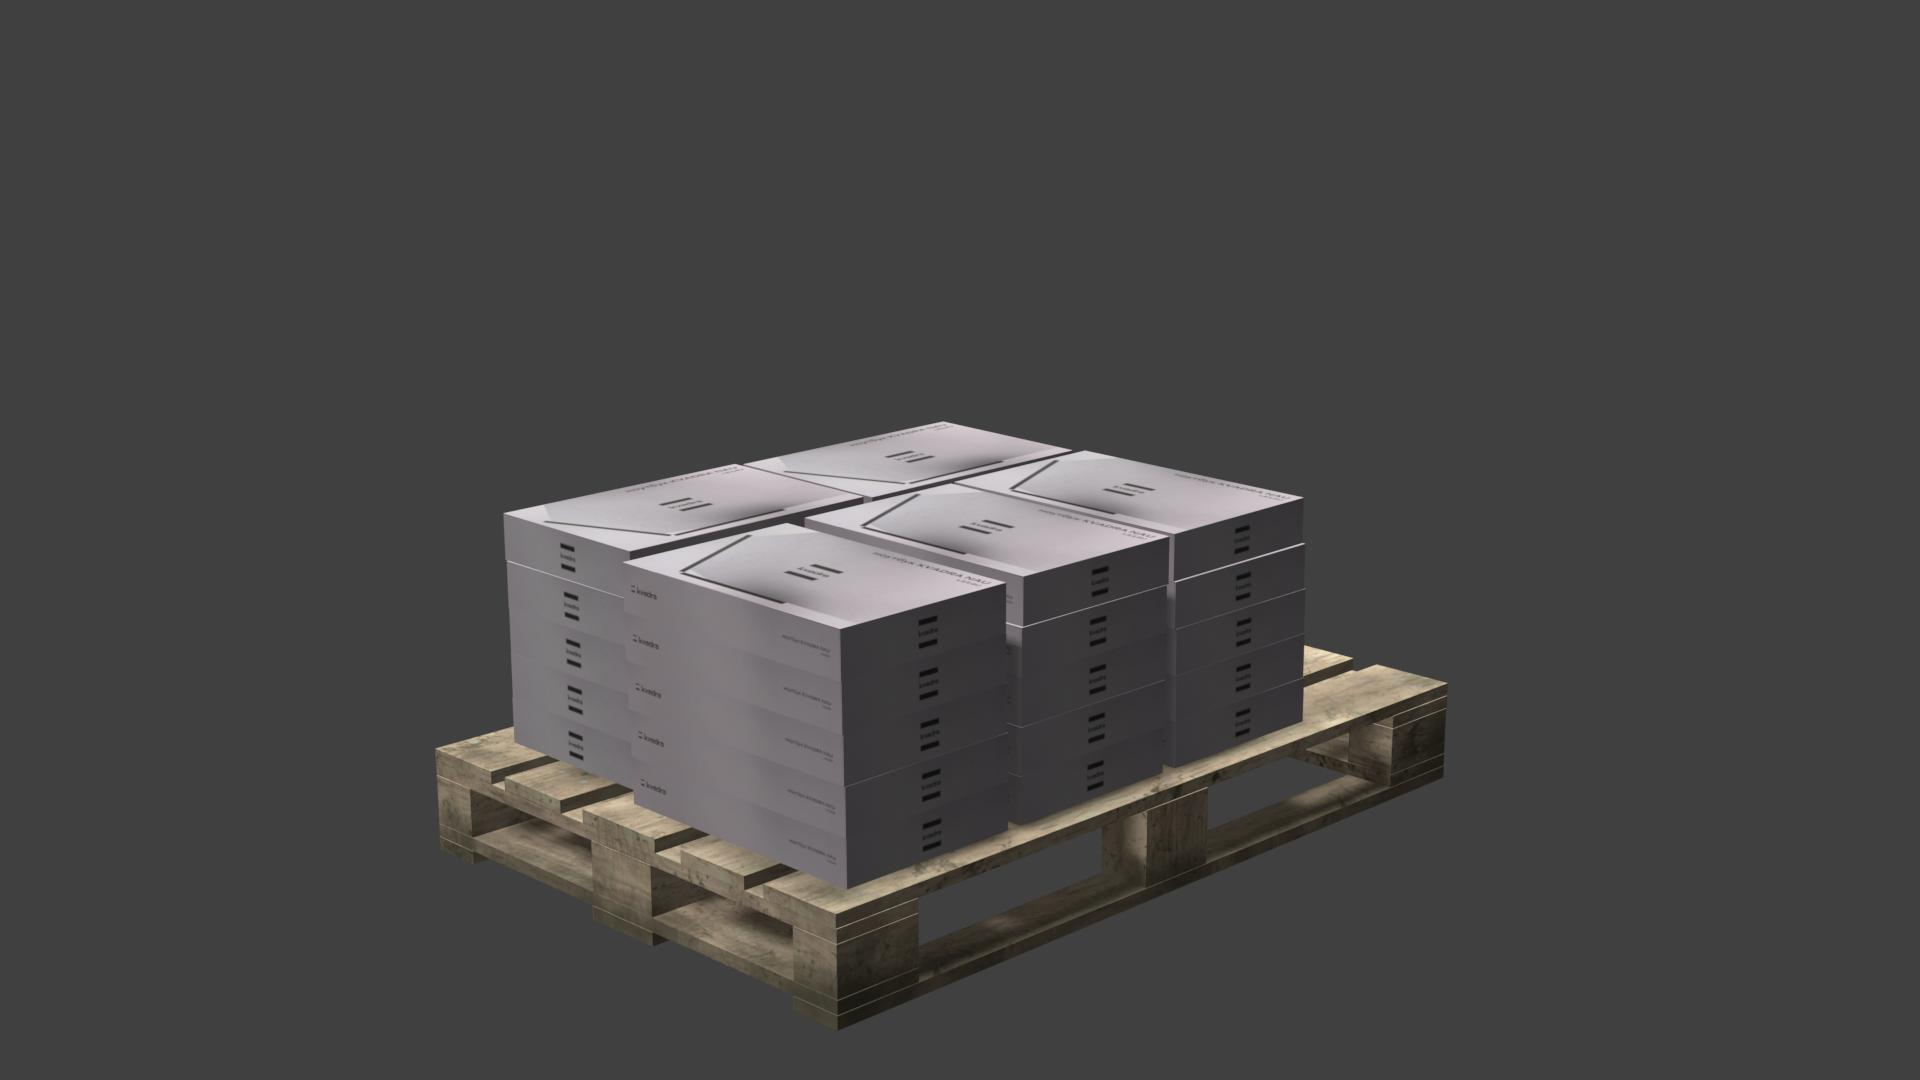laptop_left: (634, 760, 1007, 890), (630, 712, 1007, 839), (628, 662, 1006, 787), (625, 613, 1006, 735), (622, 566, 1006, 683), (1009, 680, 1164, 777), (1009, 729, 1163, 825), (1006, 587, 1166, 679), (1006, 637, 1166, 727), (1007, 538, 1168, 626), (1164, 676, 1304, 767), (1166, 636, 1304, 724), (1167, 589, 1304, 675), (1168, 543, 1304, 629), (513, 698, 632, 790), (1171, 500, 1303, 582), (504, 514, 630, 597), (512, 655, 630, 741), (509, 608, 626, 692), (506, 563, 624, 645)
laptop_top: (624, 522, 1001, 630), (806, 484, 1168, 576), (508, 463, 864, 553), (960, 451, 1302, 535), (745, 421, 1071, 497)
palet: (435, 644, 1447, 1033)
